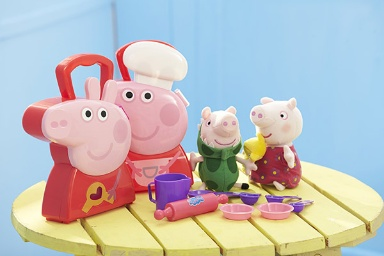Peppa: (42, 95, 131, 212), (105, 80, 197, 190)
